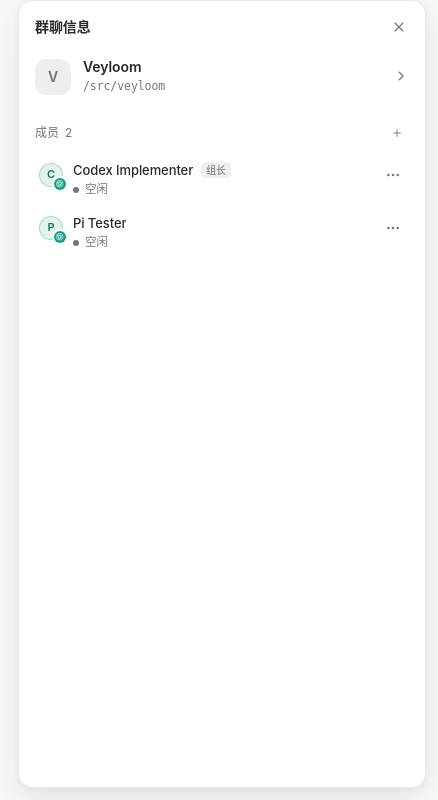
Scenario: MembersPanel › marks the leader, and makes another member the leader from its menu
Check: the list item "C Codex Implementer 组长 空闲" is shown, box [31,153,413,206]
Check: the list item "P Pi Tester 空闲" does not show "组长", box [31,206,413,259]
// The leader is not made the leader again.
Click the 1st button named "更多".
click(393, 175)  # box [377,159,409,191]
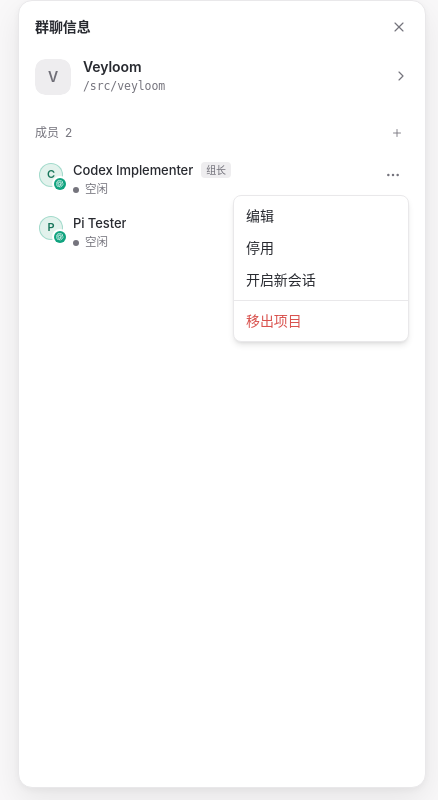
Check: the menu item "设为组长" is not shown
Check: the menu item "编辑" is shown, box [246,207,274,224]
Press Escape
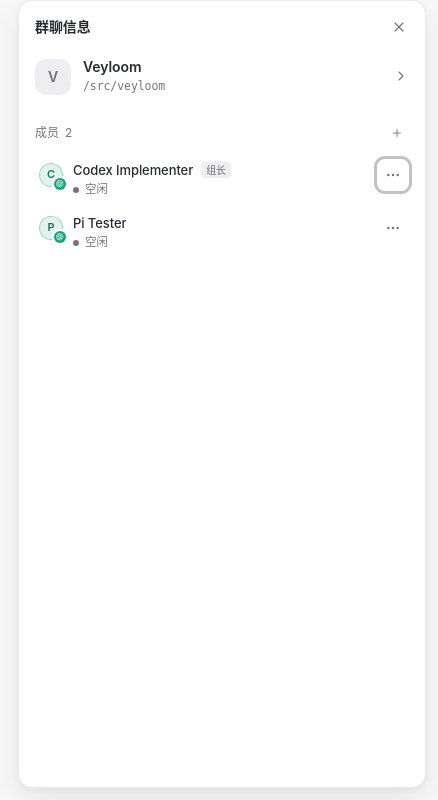
Click the 2nd button named "更多".
click(393, 228)  # box [377,212,409,244]
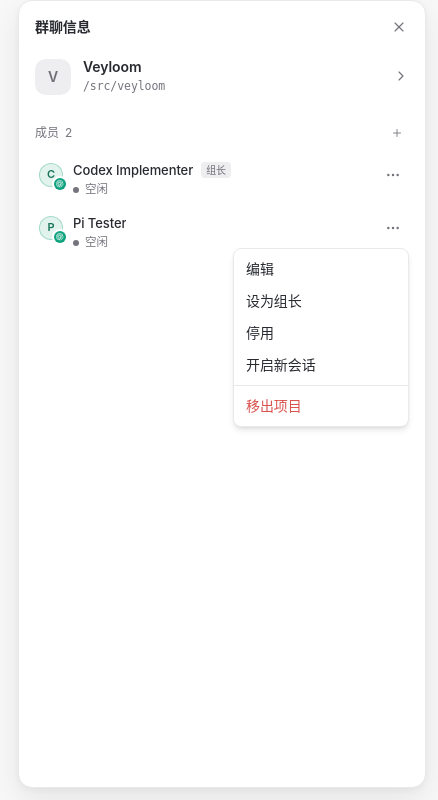
Click the menu item "设为组长".
click(274, 300)  # box [246,292,302,309]
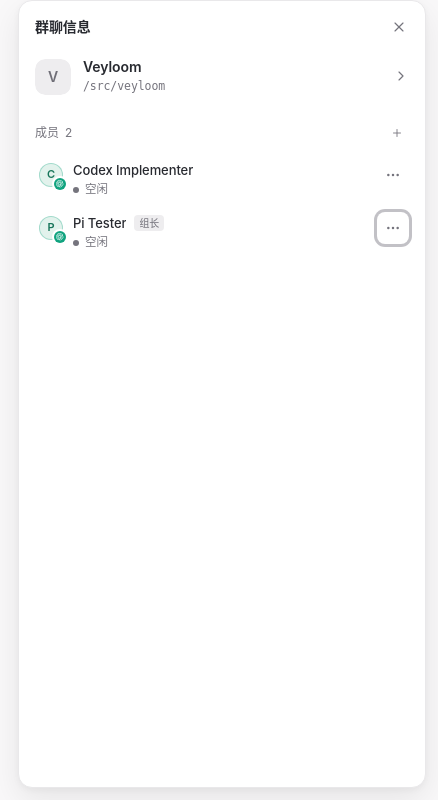
Check: the list item "C Codex Implementer 空闲" does not show "组长", box [31,153,413,206]
Check: the list item "P Pi Tester 组长 空闲" is shown, box [31,206,413,259]
